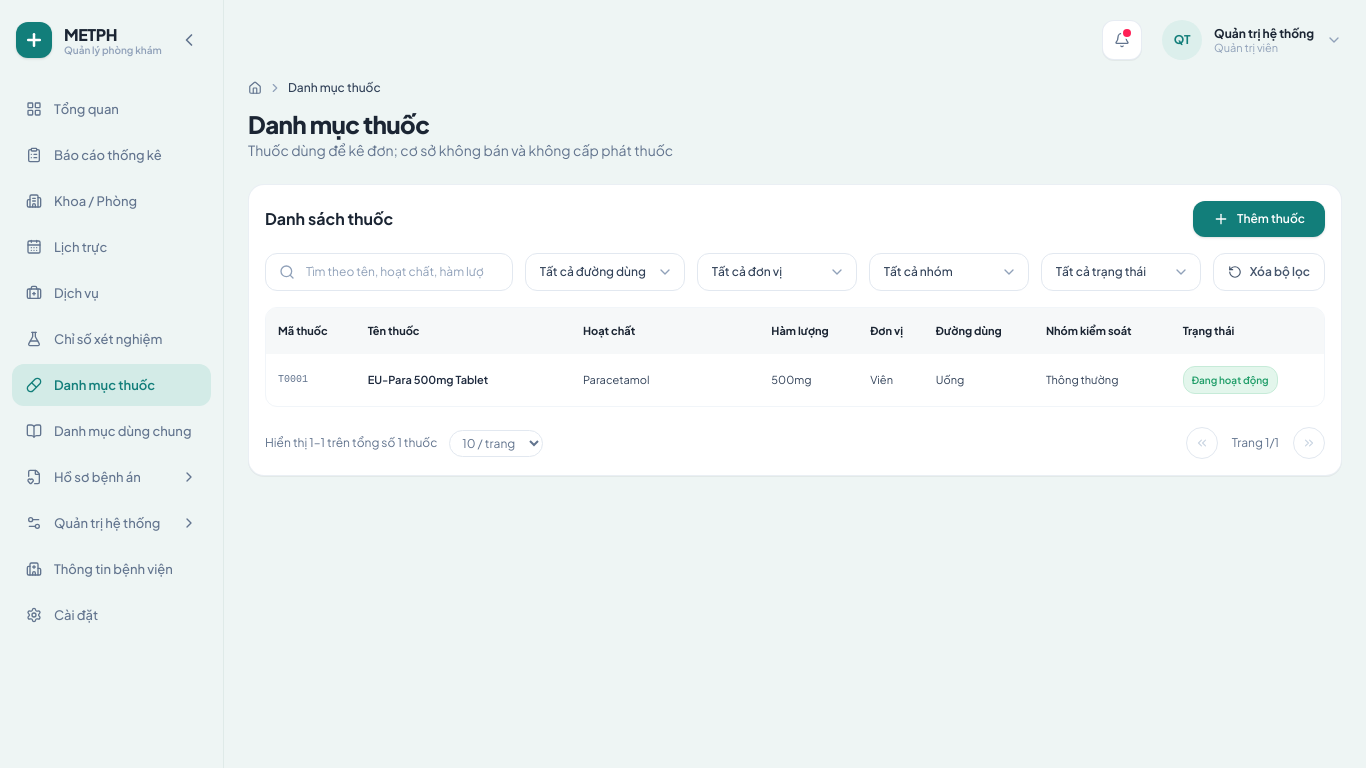
Test case: MedicineManagementPage (UC-81 to UC-84) › shows MSG80 in place of the stale rows when a filtered list load fails
The image size is (1366, 768).
expect the text "EU-Para 500mg Tablet" is shown: met, box [360,354,575,406]
Select "Tiêm" in the dropdown named "Lọc theo đường dùng": (605, 272) [525,253,685,291]
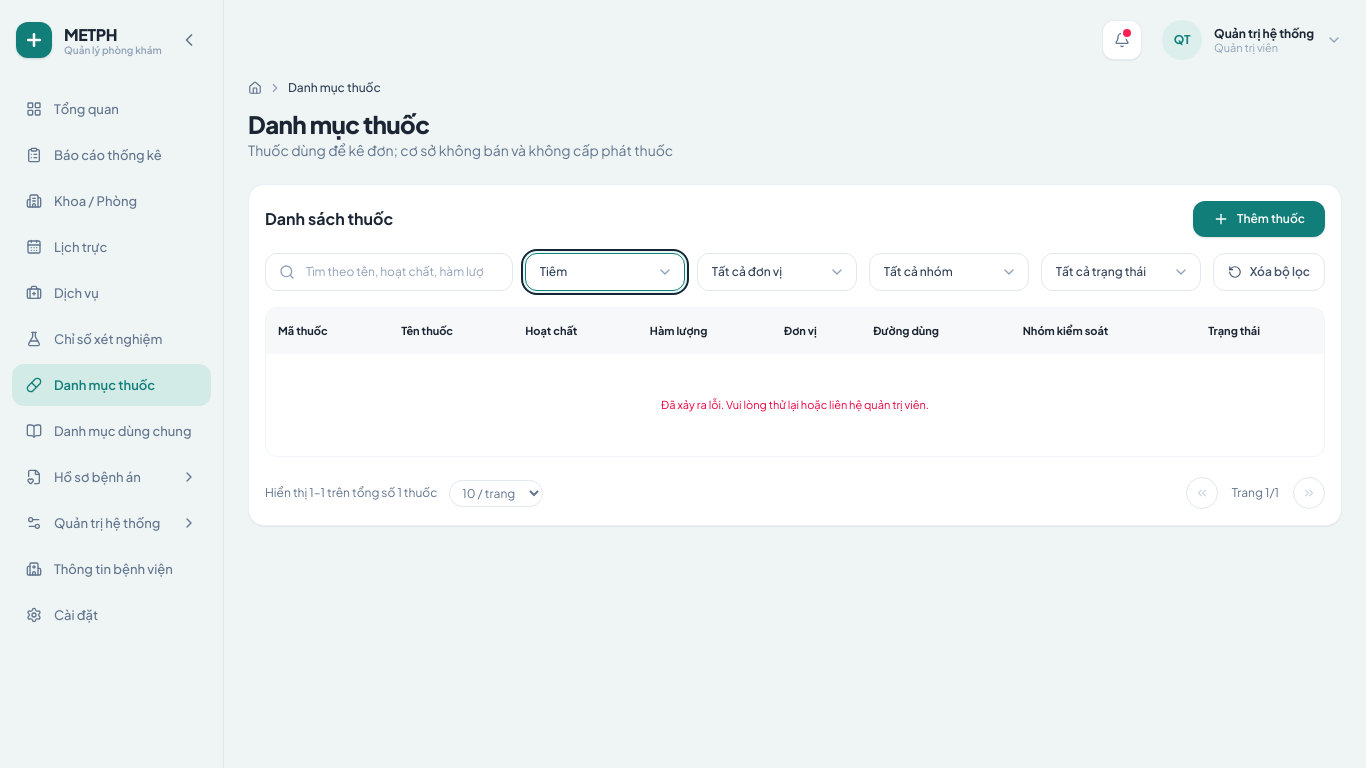
expect the message reads "Đã xảy ra lỗi. Vui lòng thử lại hoặc liên hệ quản trị viên.": met, box [661,398,929,411]
expect the text "EU-Para 500mg Tablet" is gone: met
